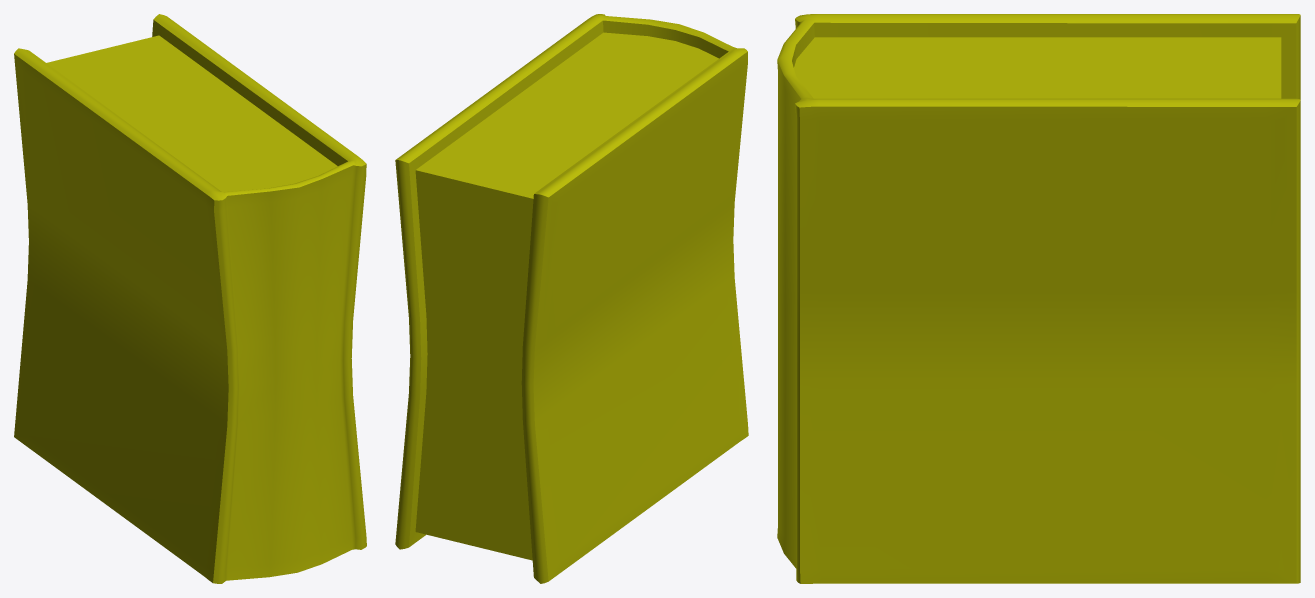
File: HD_Book_LFat.fbx
The picture shows the model from 3 angles, left to right: view 1: azimuth 30°, elevation 25°; view 2: azimuth 150°, elevation 25°; view 3: azimuth 270°, elevation 25°; orthographic projection. The views are drawn at different scales.
Parts seen in each view (by area): view 1: HD_Book_LFat; view 2: HD_Book_LFat; view 3: HD_Book_LFat.
Part boxes in pixels (x1,y1,x2,y2): HD_Book_LFat: (14, 14, 366, 583); HD_Book_LFat: (395, 14, 748, 583); HD_Book_LFat: (777, 14, 1300, 583).
Bounding box in the file's own units: 0.1754 × 0.4241 × 0.4162.
